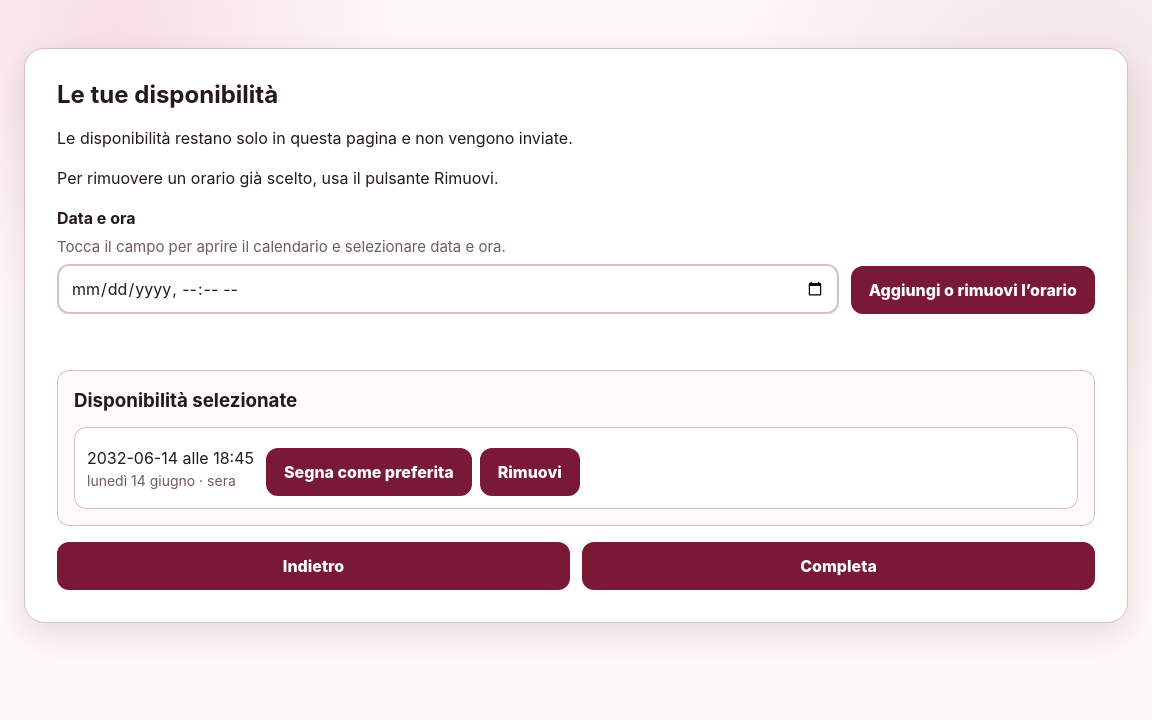
AvailabilityPicker › rifiuta un orario passato o duplicato senza emettere una nuova disponibilità
Step 1. Type "2020-06-14T18:45" into the field with id "availability-date-time" → (448, 289), box [57,264,839,314]
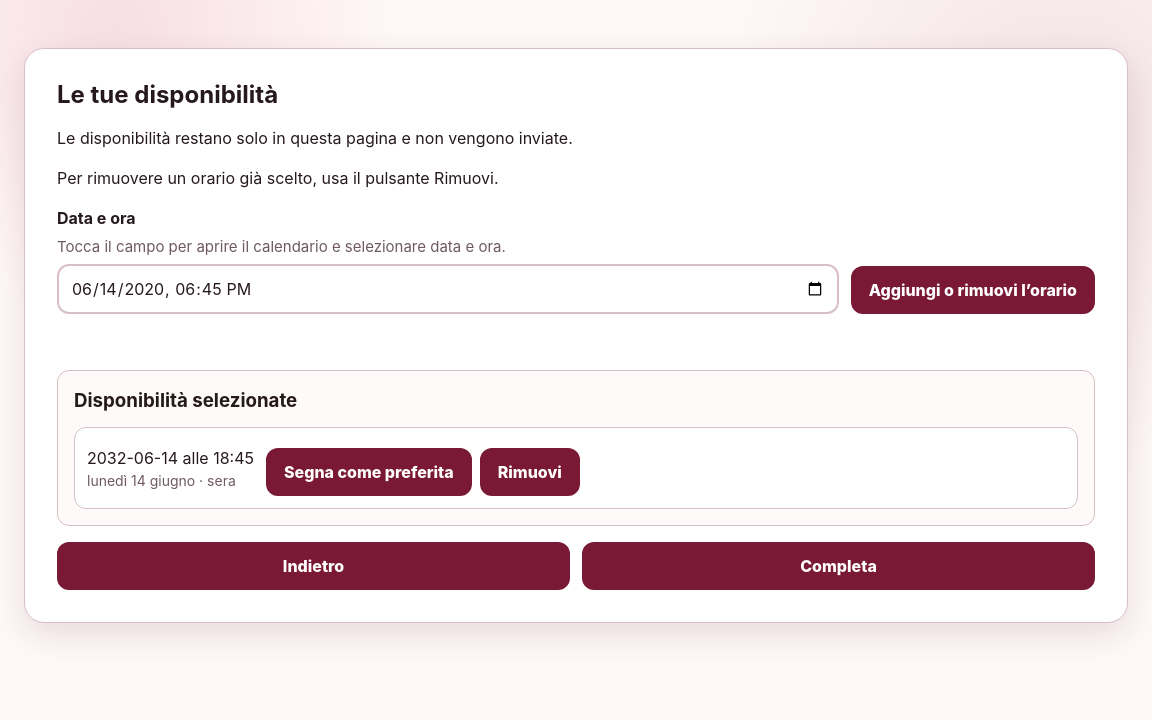
Step 2. Submit the form, box [57,206,1095,314]
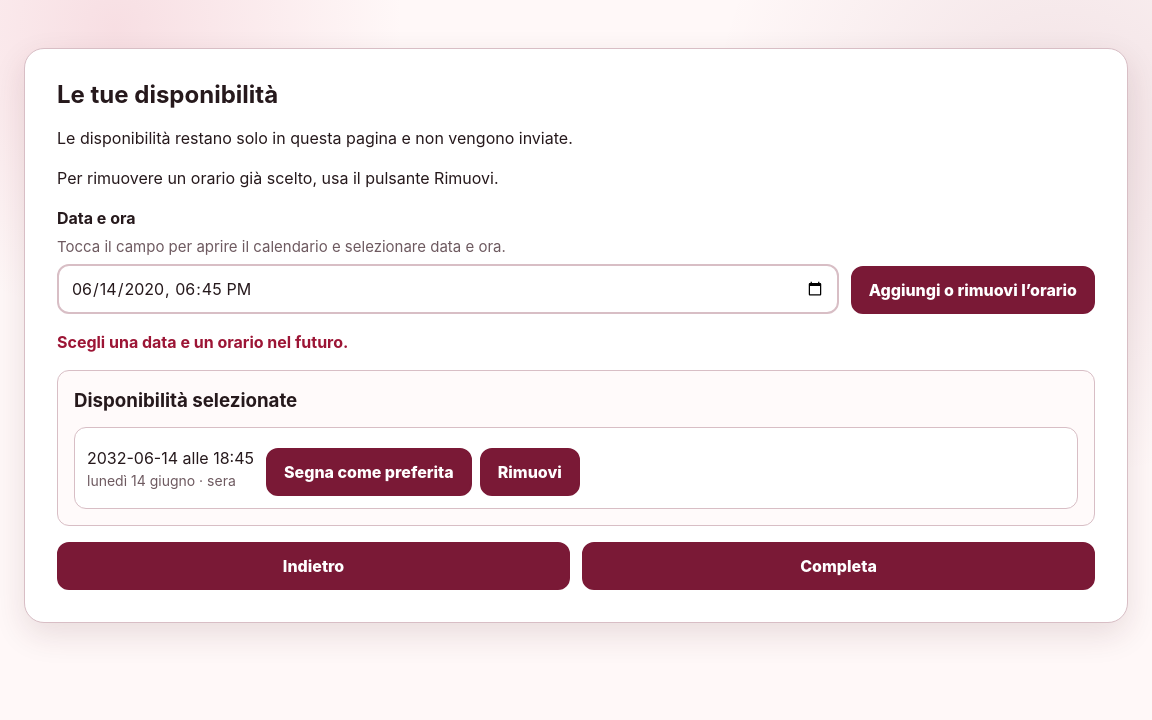
Now the text with id "availability-error" reads "Scegli una data e un orario nel futuro.", box [57,332,348,352]
Step 3. Replace the text in the field with id "availability-date-time" with "2032-06-14T18:45" → (448, 289), box [57,264,839,314]
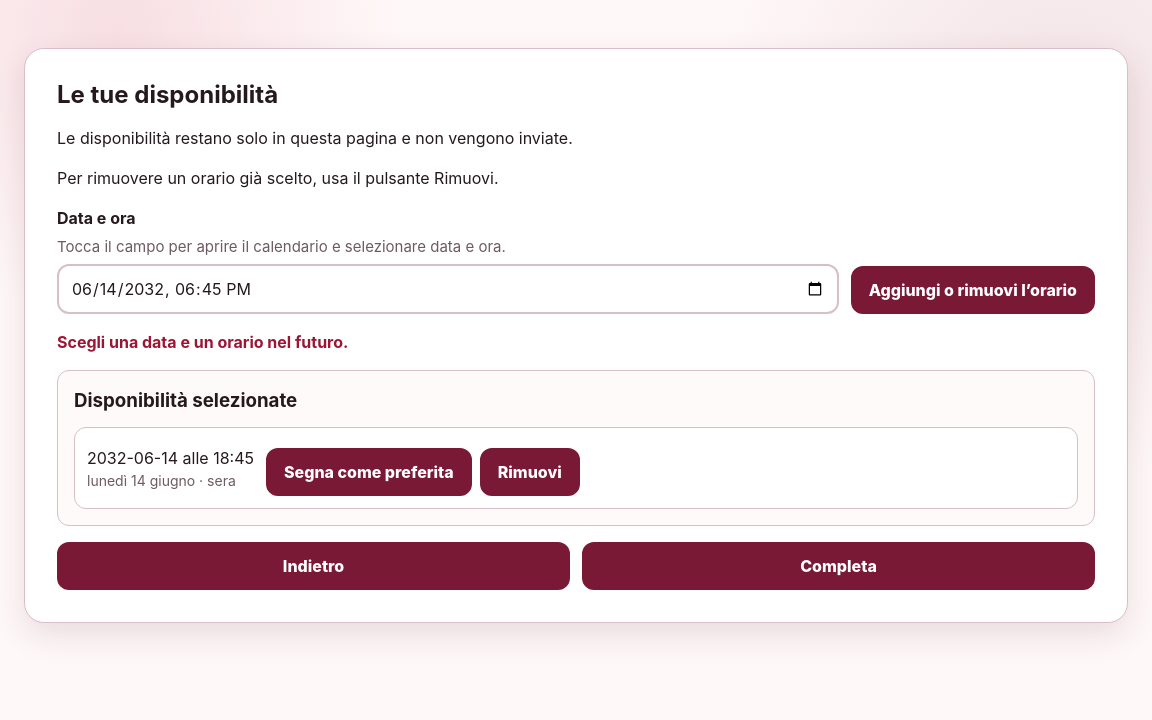
Step 4. Submit the form, box [57,206,1095,314]
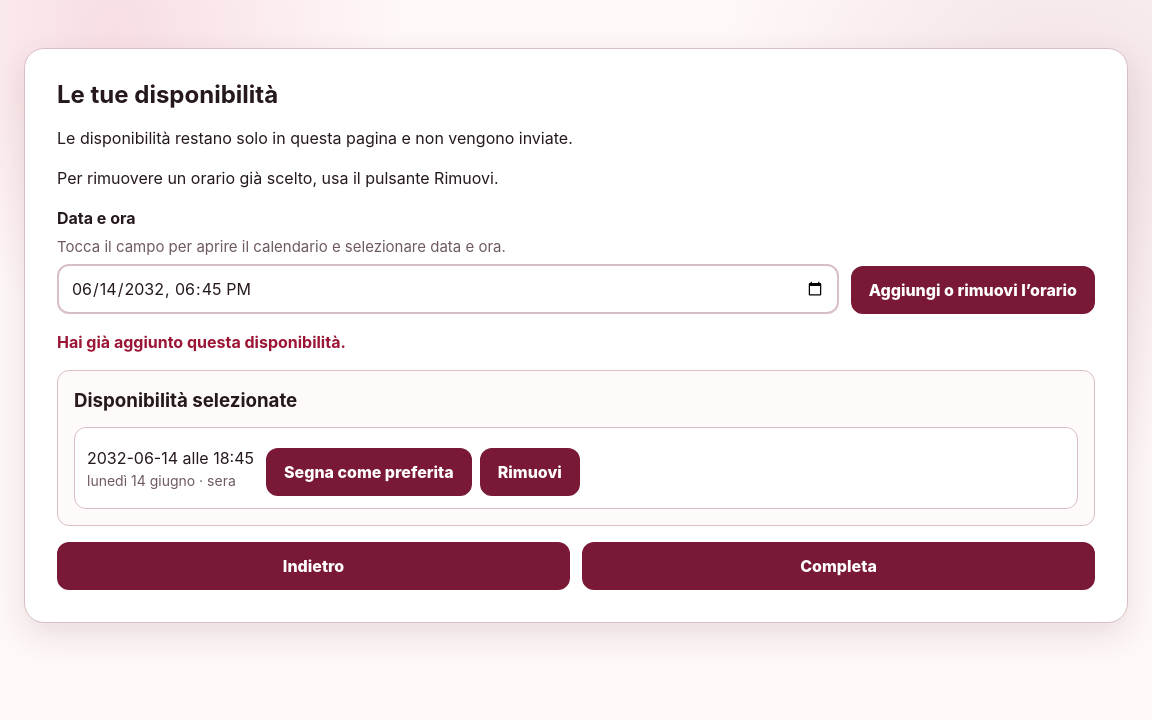
Now the text with id "availability-error" reads "Hai già aggiunto questa disponibilità.", box [57,332,346,352]
